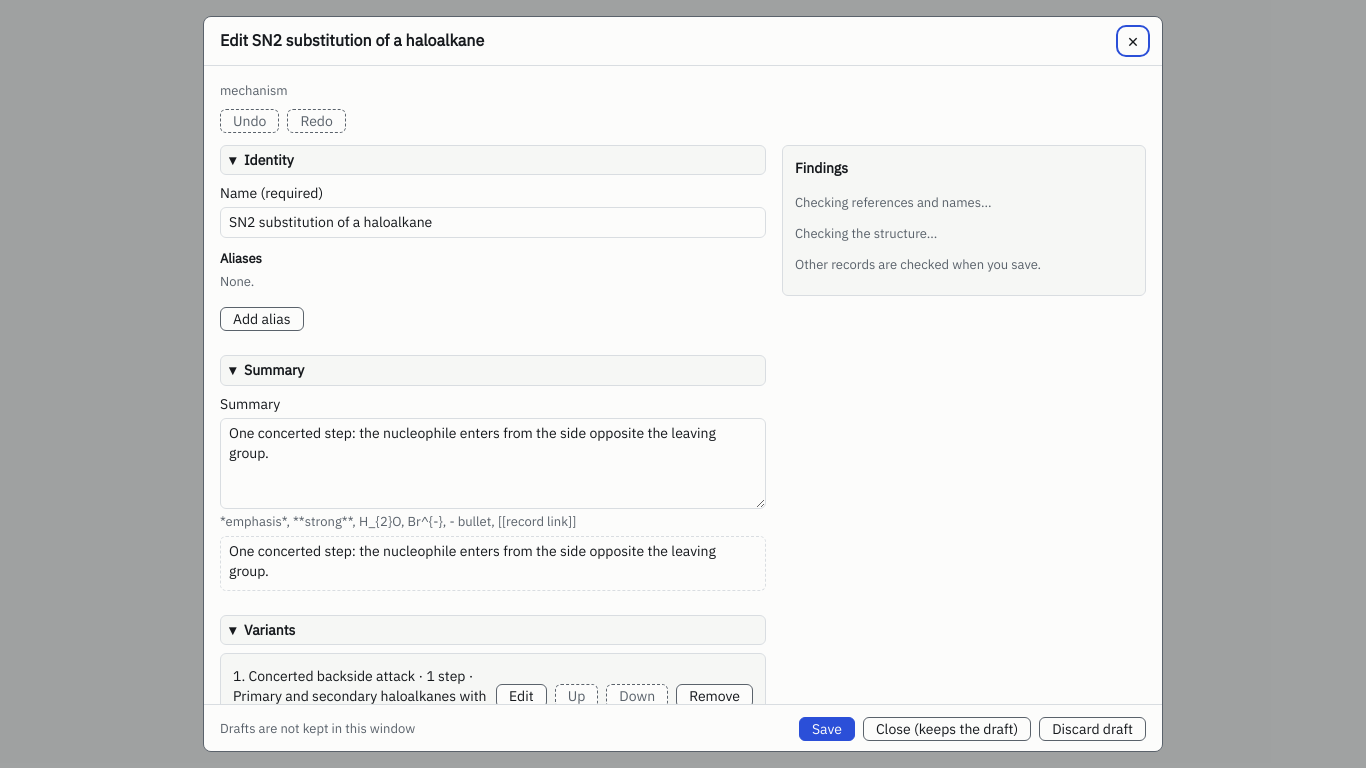
adding, moving and removing steps › Add step appends an empty step and opens it
Click the button "Edit".
click(521, 696)  # box 496,684 -> 547,708
(page scrolled)
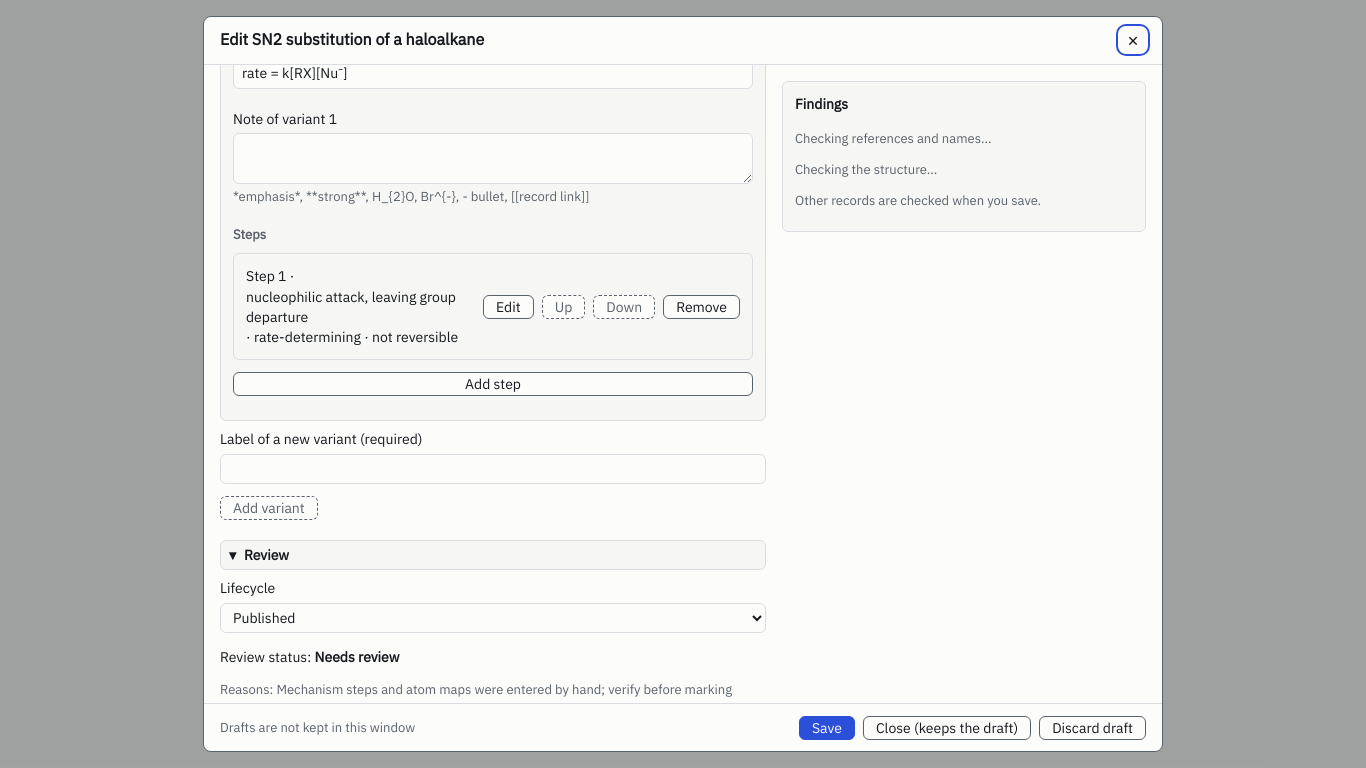
Click the button "Add step".
click(493, 384)  # box 233,372 -> 753,396
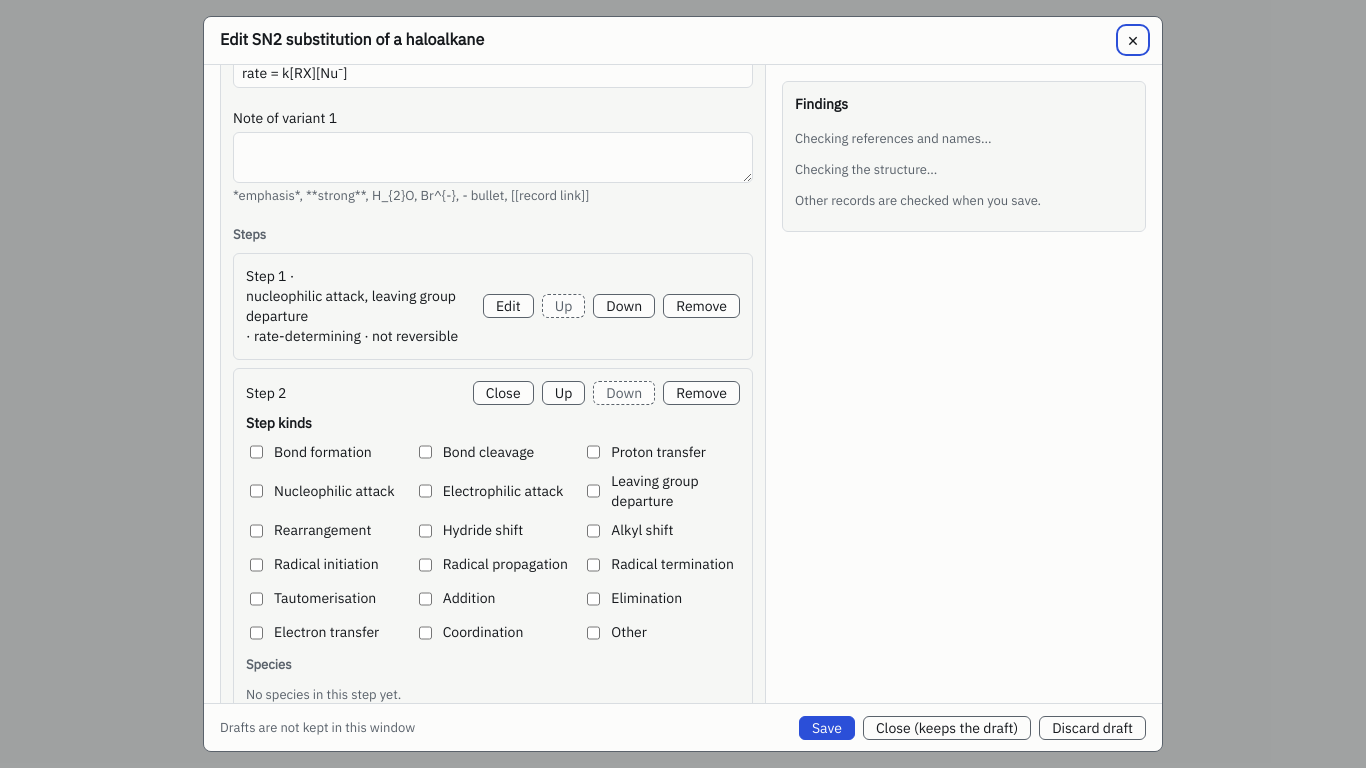
Expected: the text "Step 2" is shown, 246,382 -> 286,403
